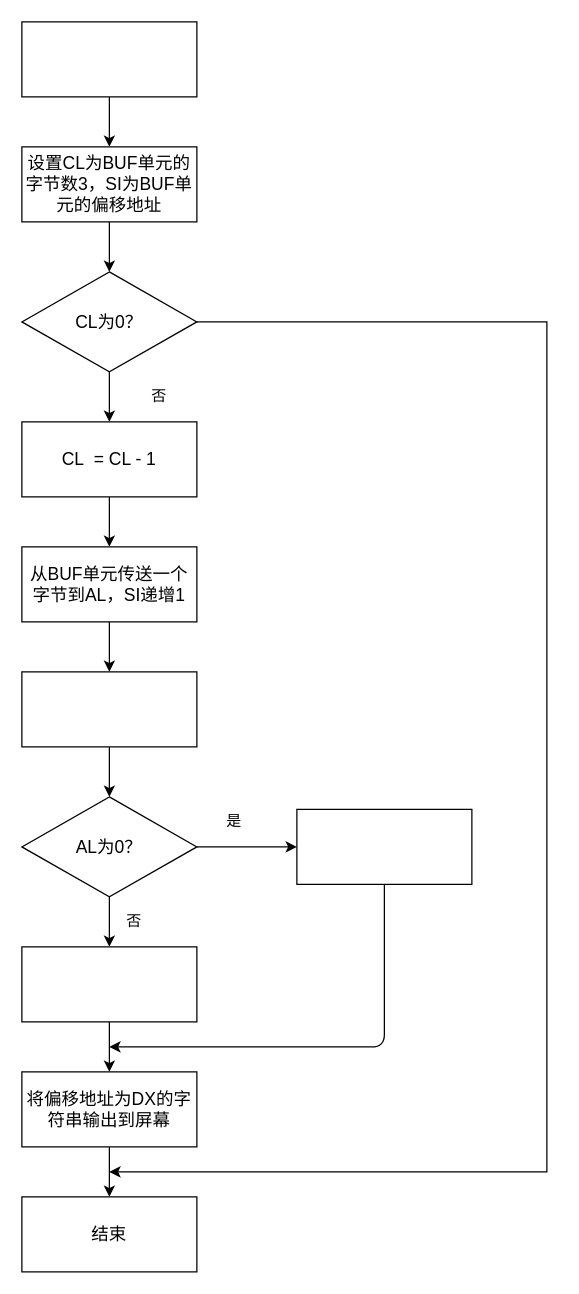
The diagram is 579 pixels wide and 1294 high, and some of its shapes have lost their labels. Here are the shapes that lost their labels. From the top down, the centre of each, then its label:
(x=109, y=59): 在数据段设置好BUF单元的数据，以及"plus"和"minus"字符串
(x=109, y=709): AL与80H相与
(x=384, y=846): 传送的数为正数，将DX赋值为字符串"plus"的偏移地址
(x=109, y=984): 传送的数为负数，将DX赋值为字符串 "pminus"的偏移地址
